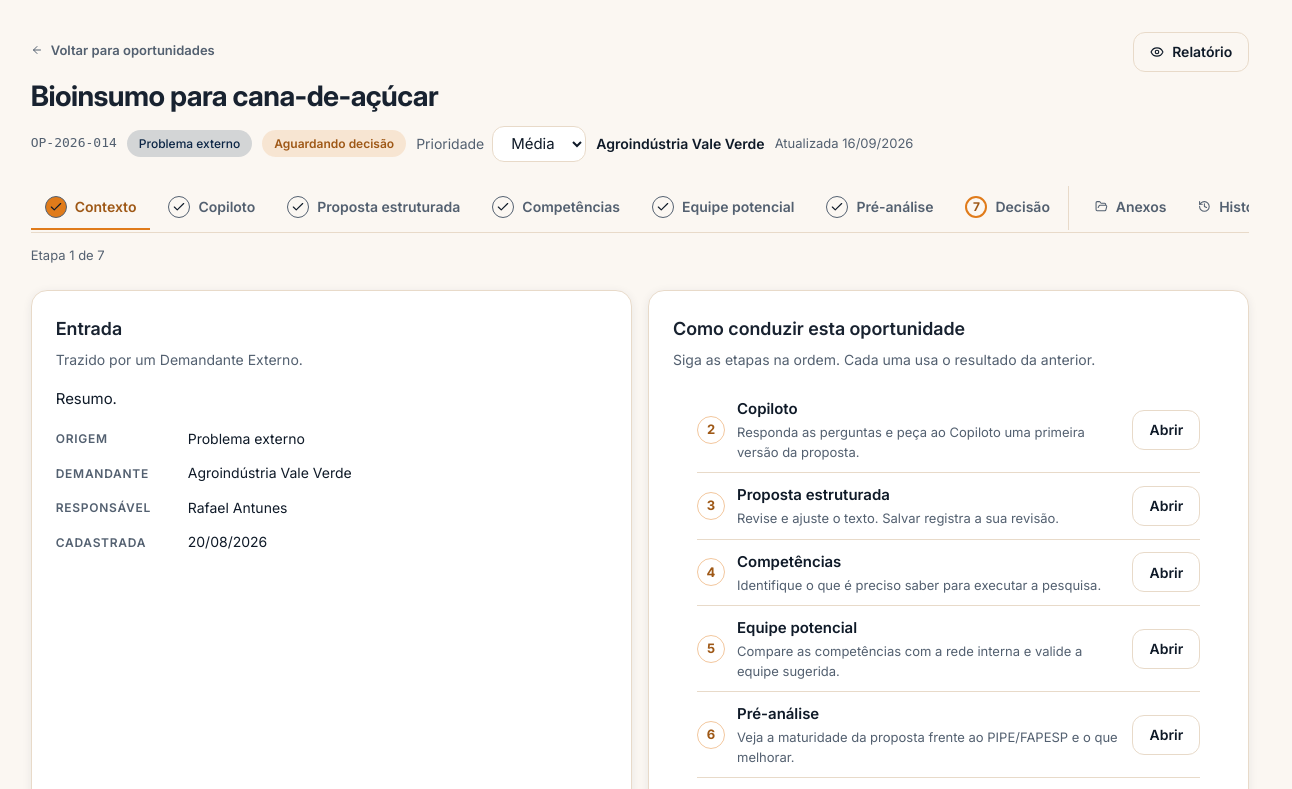
it: OportunidadePage — rodada do Copiloto › atualiza a oportunidade sem desmontar a aba nem perder o resultado
The width and height of the screenshot is (1292, 789).
Click the button "Copiloto": {"x": 212, "y": 208} top-left (154, 186), bottom-right (269, 230)
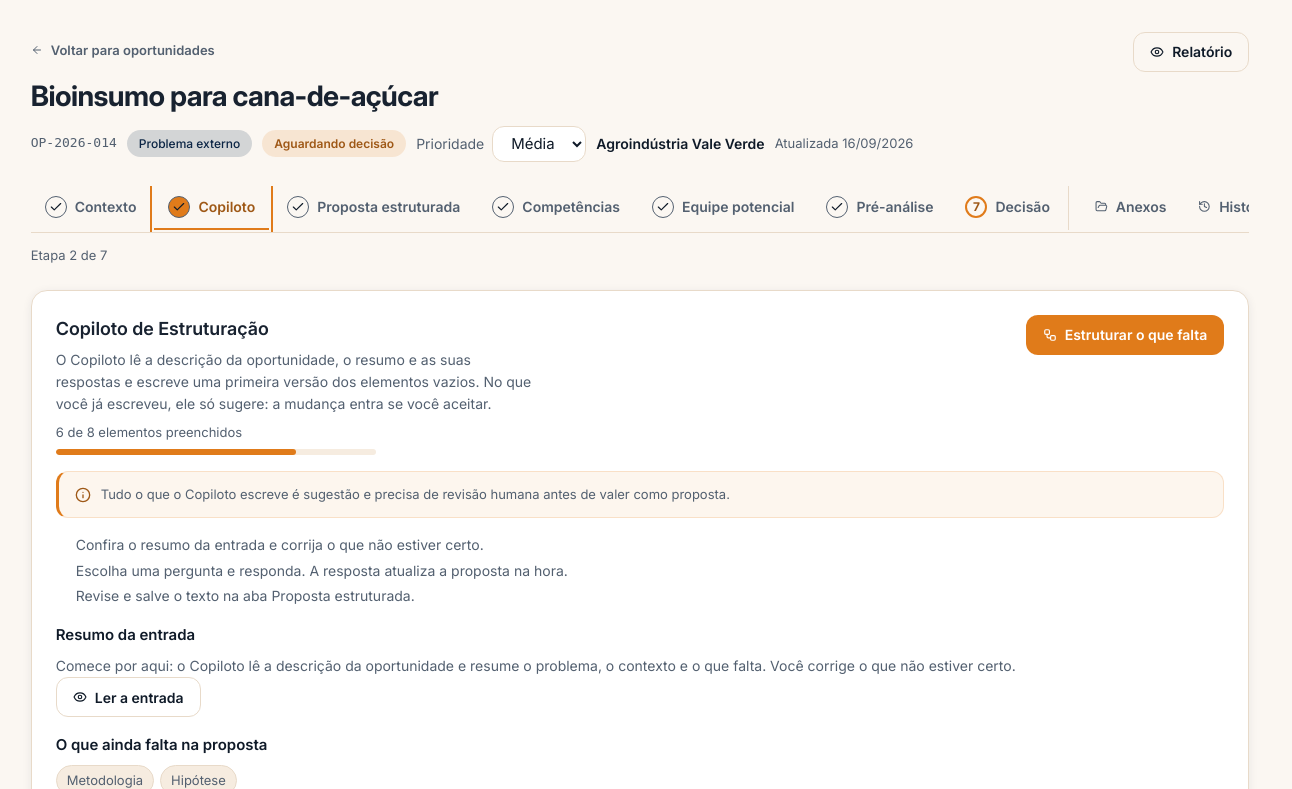
Click the button "Estruturar o que falta": {"x": 1125, "y": 335} top-left (1026, 315), bottom-right (1224, 355)
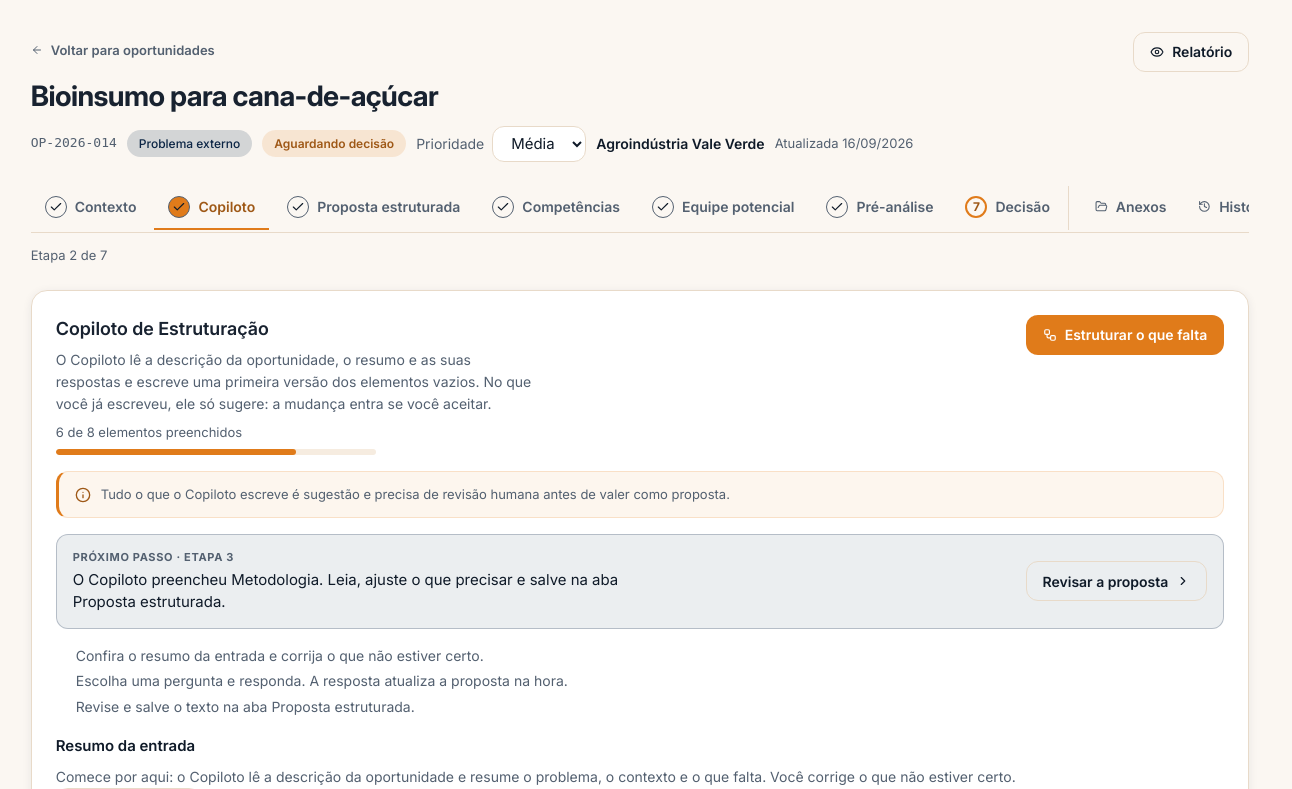
Check: the text "O Copiloto preencheu Metodologia" is shown, box top-left (73, 570), bottom-right (618, 611)
